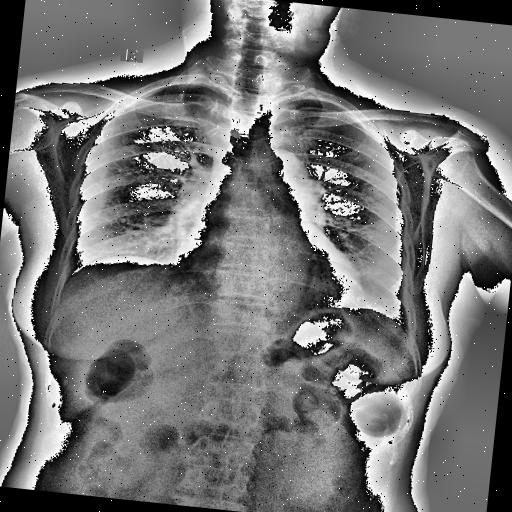0- Aortic enlargement: (254, 149, 318, 216), (248, 149, 316, 208), (250, 146, 314, 198)
3- Cardiomegaly: (166, 226, 367, 310), (164, 242, 370, 314)
